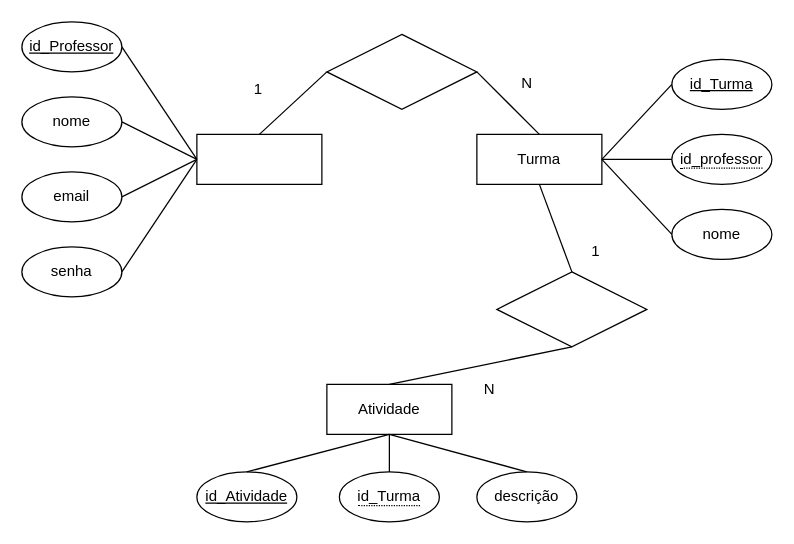
Some shapes in this 794 by 544 pixel diagram are drawn without their labels. The box of each missing label's shape, as (x1, y1, x2, y2) in pixels:
Contém: (496, 271, 647, 347)
Possui: (326, 33, 477, 109)
Professor: (196, 133, 322, 184)
